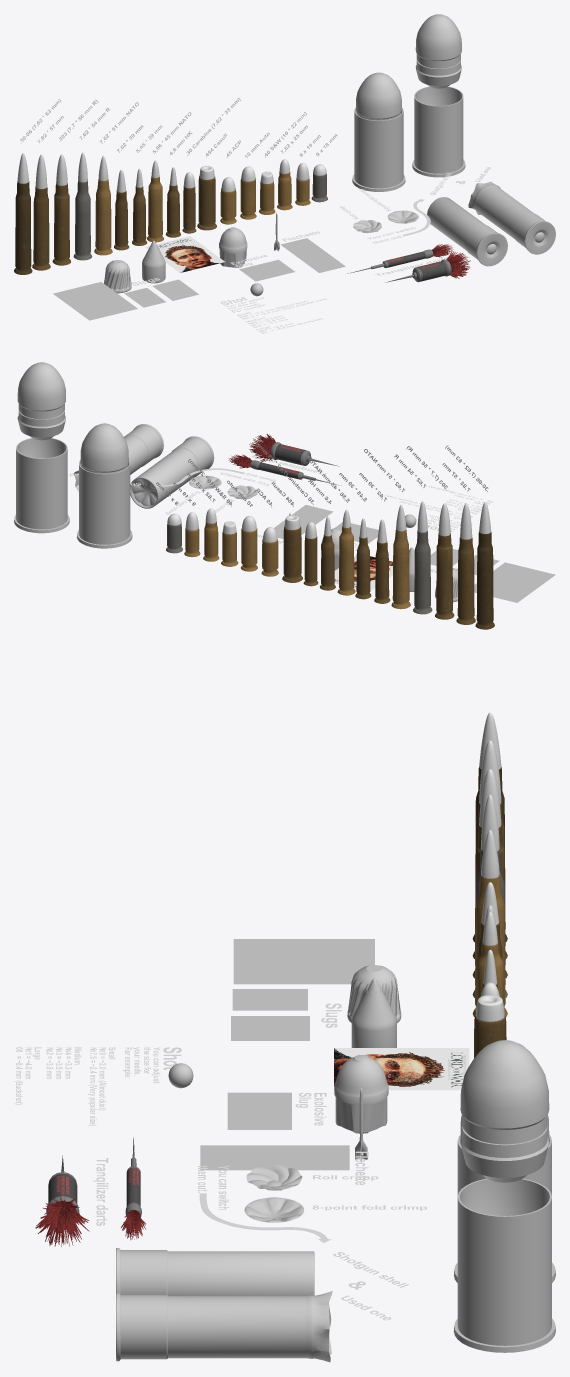
Rendered from bullet set.fbx.
3 renders of one model, top to bottom at view 1: azimuth 30°, elevation 25°; view 2: azimuth 150°, elevation 25°; view 3: azimuth 270°, elevation 25°, orthographic. The views are drawn at different scales.
Visible parts, largest first — view 1: Shotgun ammo preview, Circle.001, Circle.007, Circle.008, Cylinder.002, Circle, Cylinder.004, ab67616d0000b273ea743e7b57ba2b991d89dd7d, Cube.012, Cube.020, Cube.022, Cube.024 (+17 smaller); view 2: Circle.001, Circle.007, Cylinder.002, Shotgun ammo preview, Circle, Cylinder.004, Cube.012, Cube.020, Cube.022, Circle.008, Cube.024, Cube.010 (+18 smaller); view 3: Shotgun ammo preview, Circle.001, Circle.008, Cylinder.002, Circle, ab67616d0000b273ea743e7b57ba2b991d89dd7d, Circle.006, Cylinder.003, Circle.005, Circle.004, Cube.010, Circle.007 (+4 smaller).
Boxes of the visible parts, <box> form: Shotgun ammo preview: <box>53,238,345,320</box>; Circle.001: <box>412,86,465,177</box>; Circle.007: <box>352,107,405,191</box>; Circle.008: <box>468,181,555,254</box>; Cylinder.002: <box>415,14,461,88</box>; Circle: <box>427,197,507,266</box>; Cylinder.004: <box>356,72,401,120</box>; ab67616d0000b273ea743e7b57ba2b991d89dd7d: <box>145,236,224,272</box>; Cube.012: <box>14,181,32,274</box>; Cube.020: <box>32,186,50,270</box>; Cube.022: <box>52,183,70,265</box>; Cube.024: <box>73,180,92,260</box>; Circle.001: <box>14,438,69,533</box>; Circle.007: <box>76,460,132,548</box>; Cylinder.002: <box>17,362,65,440</box>; Shotgun ammo preview: <box>274,505,555,602</box>; Circle: <box>130,436,214,508</box>; Cylinder.004: <box>80,423,128,473</box>; Cube.012: <box>475,532,494,629</box>; Cube.020: <box>456,537,475,624</box>; Cube.022: <box>435,533,454,619</box>; Circle.008: <box>73,424,163,491</box>; Cube.024: <box>413,530,432,614</box>; Cube.010: <box>391,529,410,609</box>; Shotgun ammo preview: <box>200,939,374,1170</box>; Circle.001: <box>453,1178,555,1352</box>; Circle.008: <box>116,1291,332,1362</box>; Cylinder.002: <box>460,1040,549,1182</box>; Circle: <box>116,1248,314,1295</box>; ab67616d0000b273ea743e7b57ba2b991d89dd7d: <box>334,1048,469,1090</box>; Circle.006: <box>334,1055,388,1133</box>; Cylinder.003: <box>35,1155,89,1246</box>; Circle.005: <box>351,978,396,1047</box>; Circle.004: <box>347,965,401,1022</box>; Cube.010: <box>472,875,507,1016</box>; Circle.007: <box>454,1134,555,1282</box>.
Bounding box in the file's own units: 246 × 92.81 × 134.
